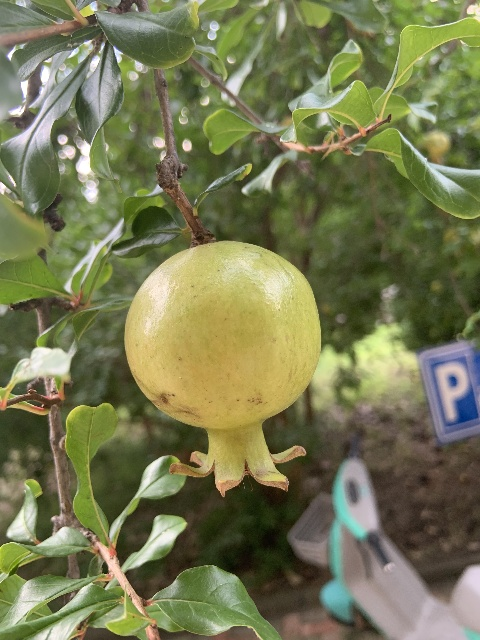mid-growth: (123, 240, 321, 499)
